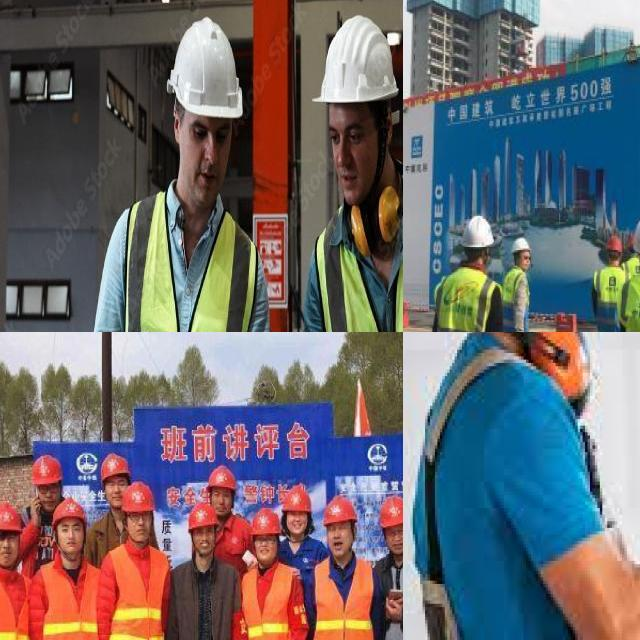Ear-protection: (508, 332, 597, 396), (327, 180, 403, 237)
face_nomask: (326, 516, 352, 561), (56, 518, 85, 556), (127, 509, 153, 546), (34, 481, 62, 515), (104, 477, 131, 512), (192, 526, 215, 561), (210, 489, 236, 519), (383, 520, 403, 556), (0, 530, 22, 562), (254, 533, 278, 561), (288, 508, 309, 539)
hand_noglove: (384, 593, 400, 628)
head_helmet: (166, 18, 245, 121), (315, 17, 401, 106), (459, 211, 498, 246), (322, 492, 356, 524), (49, 496, 87, 524), (120, 481, 154, 511), (204, 464, 237, 492), (32, 453, 62, 483), (378, 491, 403, 527), (280, 484, 312, 512), (188, 500, 220, 528), (250, 506, 282, 534), (98, 451, 130, 478), (0, 499, 21, 531), (628, 212, 640, 254), (509, 235, 531, 253), (606, 234, 624, 252)
person: (78, 5, 285, 332), (278, 6, 403, 332), (105, 481, 178, 640), (34, 502, 108, 640), (309, 492, 376, 640), (169, 495, 237, 640), (433, 204, 502, 332), (242, 510, 304, 640), (276, 481, 329, 589), (210, 460, 250, 575), (21, 447, 63, 554), (90, 448, 133, 548), (589, 221, 626, 332), (503, 222, 528, 332)
vest: (112, 183, 263, 332), (311, 191, 403, 332), (105, 541, 169, 640), (35, 562, 105, 640), (309, 557, 373, 640), (241, 562, 305, 640), (433, 273, 501, 332), (0, 566, 37, 640), (497, 267, 531, 332), (594, 264, 626, 332)
